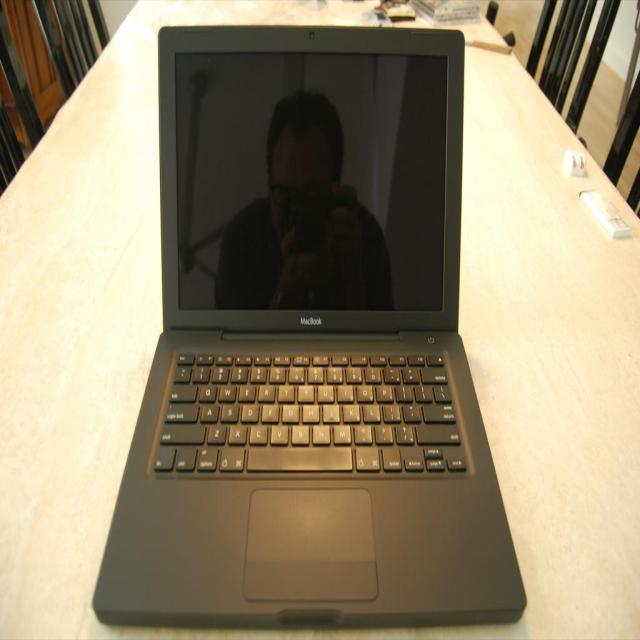laptop: (91, 28, 525, 627)
